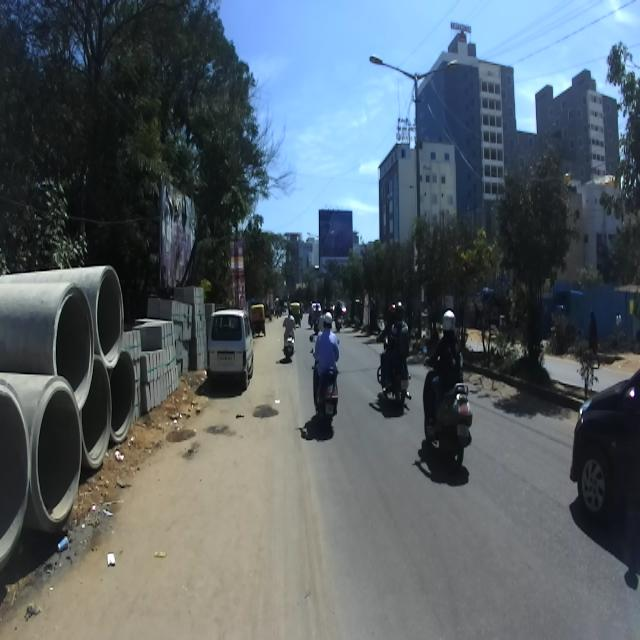car ahead at: (210, 299, 253, 390)
motorcycle ahead at: (423, 383, 478, 477), (310, 385, 346, 429)
